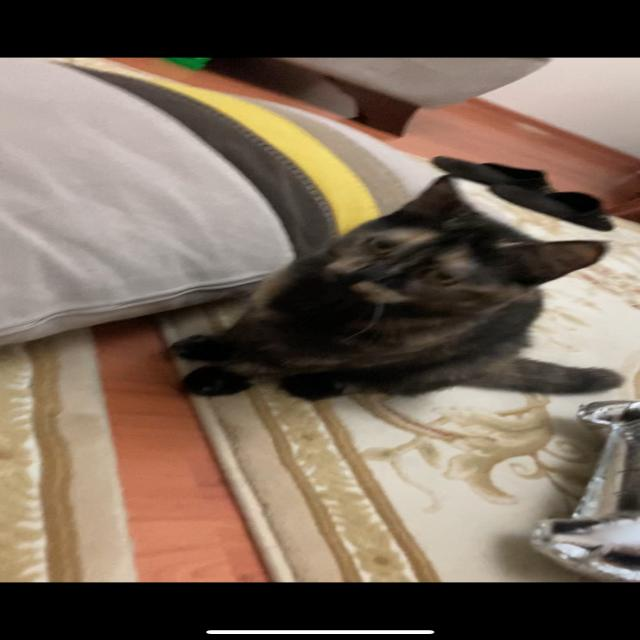authorized: (163, 172, 625, 402)
